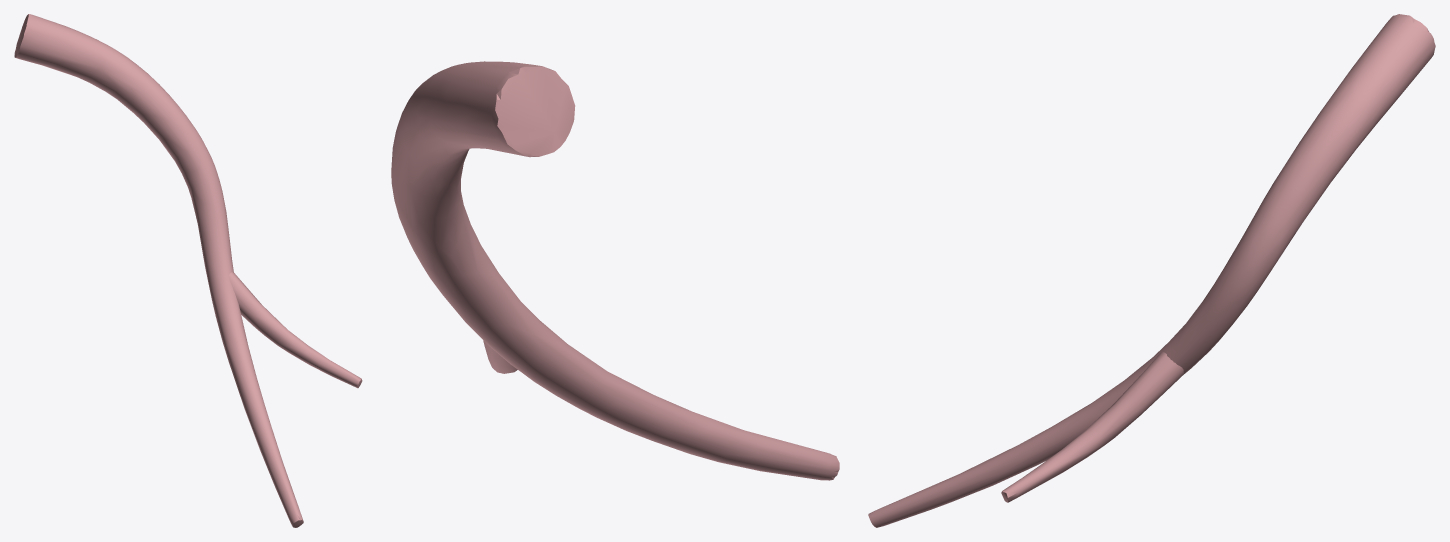
File: fma68227_cx165.glb
3 views of the same model, side by side, from view 1: azimuth 30°, elevation 25°; view 2: azimuth 150°, elevation 25°; view 3: azimuth 270°, elevation 25° (orthographic). The views are drawn at different scales.
Parts seen in each view (by area): view 1: FMA68227_CX165; view 2: FMA68227_CX165; view 3: FMA68227_CX165.
Boxes of the visible parts, bbox=[...] form: FMA68227_CX165: bbox=[14, 14, 362, 527]; FMA68227_CX165: bbox=[391, 61, 839, 480]; FMA68227_CX165: bbox=[868, 14, 1435, 527].
Size of the model in its own units: 0.052 by 0.0963 by 0.1041.
